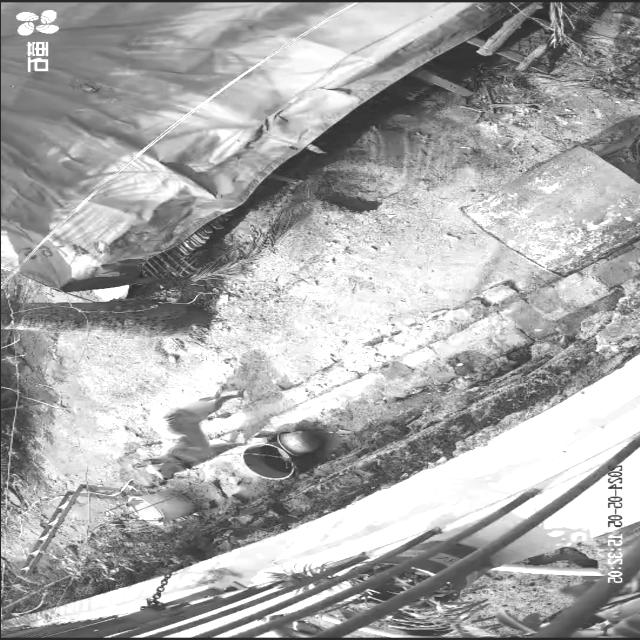dog: (133, 393, 247, 481)
